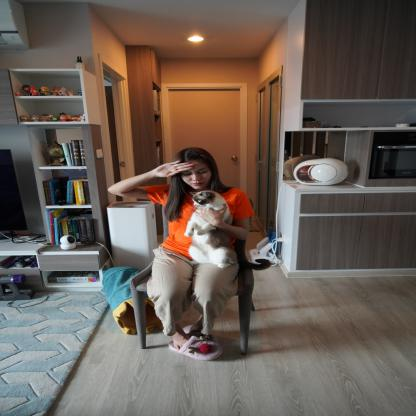Sick: (136, 155, 210, 188)
